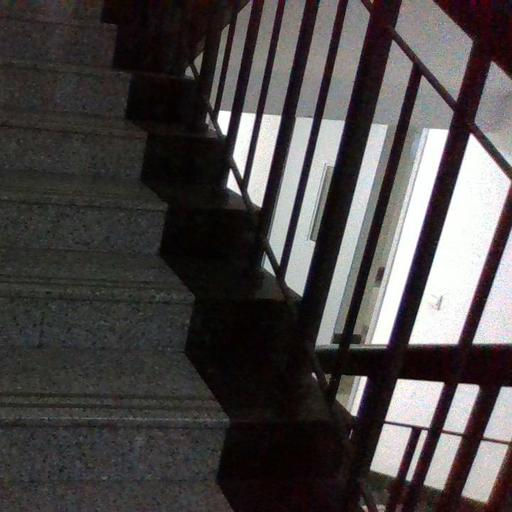Stairs: (0, 0, 232, 512)
